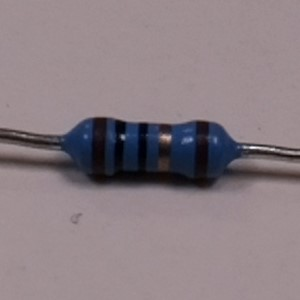black_band: (112, 117, 129, 175), (134, 119, 150, 177)
brown_band: (187, 118, 212, 184), (90, 114, 109, 180)
gold_band: (154, 120, 174, 176)
